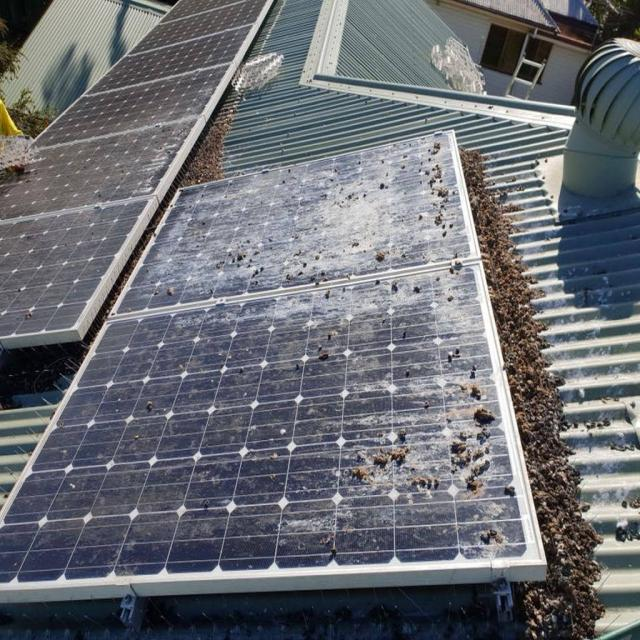dust-solar-panel: (0, 127, 542, 584), (0, 1, 271, 341)
